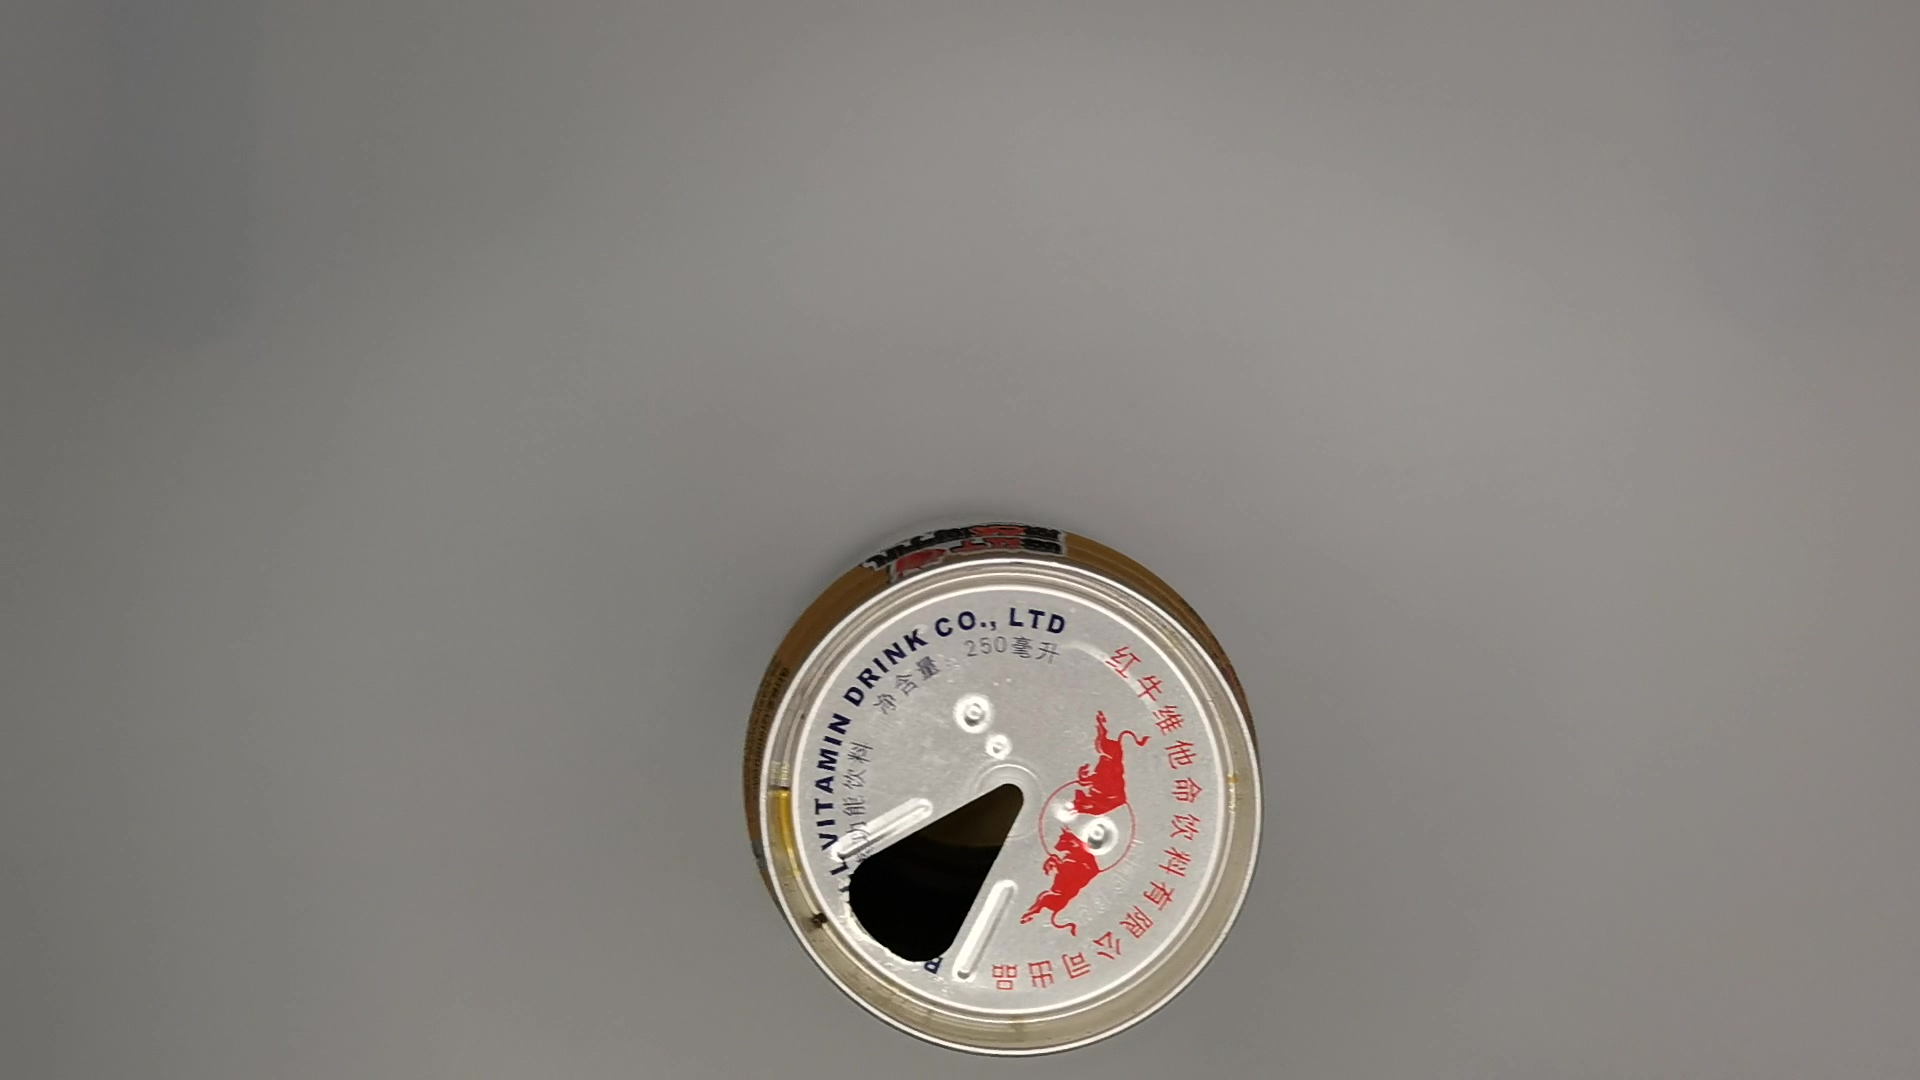can: (732, 506, 1266, 1052)
